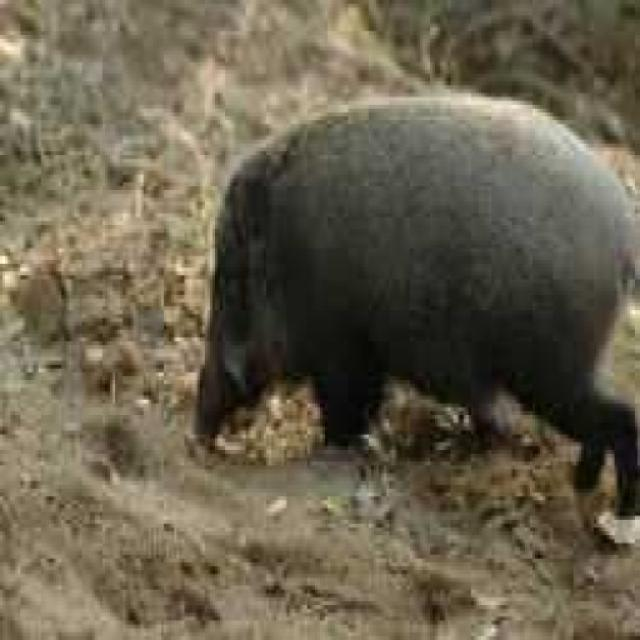pig: (185, 108, 640, 494)
